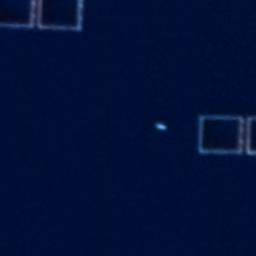square_solid: (194, 111, 246, 159), (34, 1, 87, 37), (1, 1, 40, 34), (243, 113, 256, 161)
